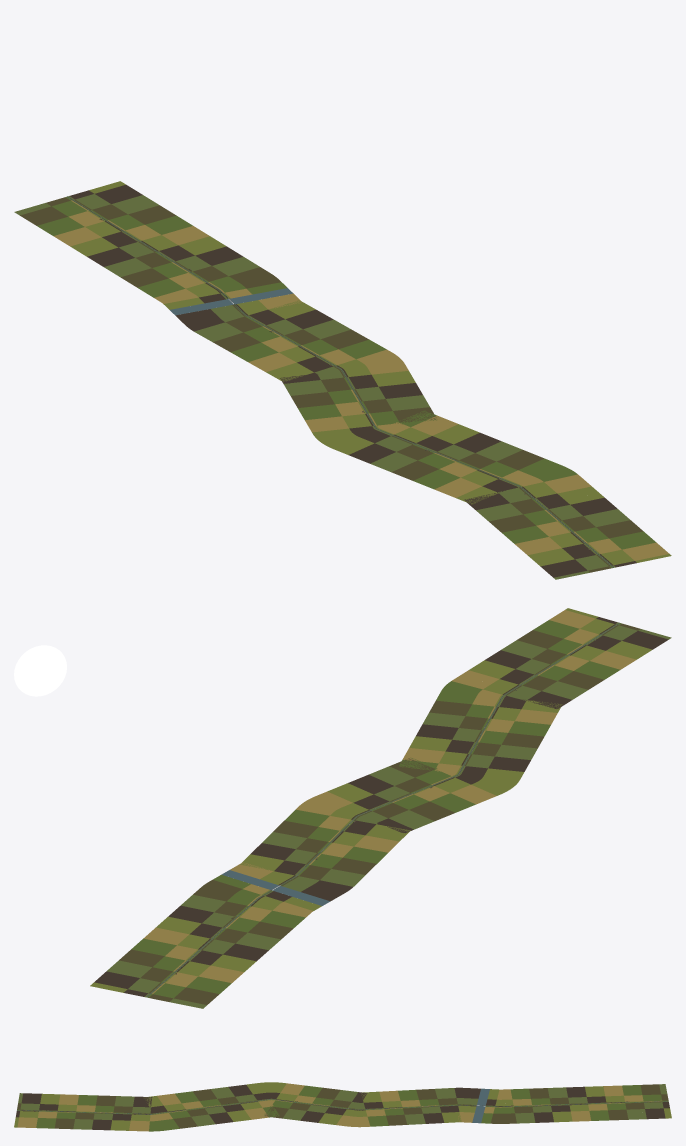
Rendered from fens.glb.
3 views of the same model, one above another, from view 1: azimuth 30°, elevation 25°; view 2: azimuth 150°, elevation 25°; view 3: azimuth 270°, elevation 25° (orthographic). The views are drawn at different scales.
Visible parts, largest first — view 1: Fields_033, Fields_025, Fields_013, Fields_032, Fields_026, Fields_023, Fields_024, Fields_027, Fields_043, Fields_011, Fields_008, Fields_029 (+51 smaller); view 2: Sun, Fields_033, Fields_025, Fields_013, Fields_023, Fields_024, Fields_043, Fields_016, Fields_018, Fields_019, Fields_021, Fields_032 (+53 smaller); view 3: Fields_033, Fields_025, Fields_013, Fields_023, Fields_032, Fields_024, Fields_044, Fields_040, Fields_001, Fields_003, Fields_010, Fields_043 (+52 smaller).
Part boxes in pixels (left/top/right/bottom): Fields_033: left=281, top=352, right=406, bottom=383; Fields_025: left=309, top=412, right=434, bottom=443; Fields_013: left=464, top=461, right=574, bottom=503; Fields_032: left=282, top=368, right=410, bottom=387; Fields_026: left=306, top=408, right=434, bottom=428; Fields_023: left=344, top=414, right=444, bottom=457; Fields_024: left=322, top=413, right=436, bottom=453; Fields_027: left=302, top=402, right=430, bottom=421; Fields_043: left=183, top=300, right=302, bottom=333; Fields_011: left=469, top=480, right=591, bottom=510; Fields_008: left=491, top=499, right=613, bottom=529; Fields_029: left=294, top=388, right=422, bottom=407; Sun: left=14, top=645, right=66, bottom=696; Fields_033: left=298, top=793, right=411, bottom=832; Fields_025: left=400, top=759, right=513, bottom=798; Fields_013: left=438, top=683, right=560, bottom=708; Fields_023: left=401, top=755, right=526, bottom=774; Fields_024: left=400, top=758, right=522, bottom=786; Fields_043: left=240, top=862, right=356, bottom=894; Fields_016: left=427, top=709, right=552, bottom=728; Fields_018: left=420, top=722, right=545, bottom=741; Fields_019: left=416, top=729, right=541, bottom=747; Fields_021: left=408, top=742, right=533, bottom=761; Fields_032: left=323, top=788, right=420, bottom=831; Fields_033: left=340, top=1092, right=365, bottom=1127; Fields_025: left=268, top=1082, right=292, bottom=1116; Fields_013: left=146, top=1096, right=172, bottom=1131; Fields_023: left=240, top=1084, right=272, bottom=1118; Fields_032: left=330, top=1091, right=362, bottom=1125; Fields_024: left=250, top=1082, right=274, bottom=1116; Fields_044: left=460, top=1088, right=479, bottom=1122; Fields_040: left=419, top=1089, right=438, bottom=1123; Fields_001: left=24, top=1093, right=40, bottom=1127; Fields_003: left=45, top=1094, right=61, bottom=1128; Fields_010: left=117, top=1096, right=133, bottom=1130; Fields_043: left=449, top=1087, right=469, bottom=1122.
Size of the model in its own units: 5237 by 3437 by 15183.
